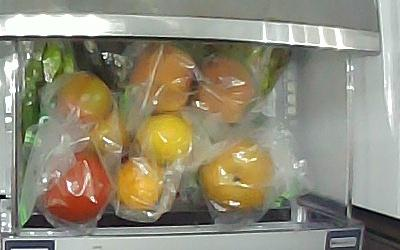peach_vinyl: (127, 45, 191, 111), (197, 58, 253, 124)
pear_vinyl: (199, 139, 274, 215)
tangerine_vinyl: (116, 157, 164, 215), (136, 115, 192, 162)
tomato_vinyl: (44, 146, 113, 222), (53, 71, 113, 124), (88, 112, 130, 154)
